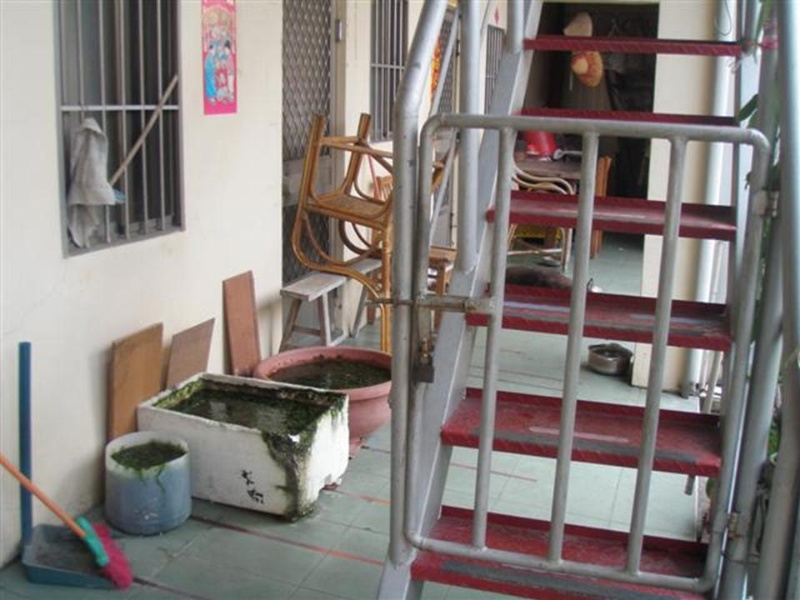bowl: (247, 342, 405, 441), (584, 342, 635, 375)
bucket: (101, 431, 195, 535)
styrofoam: (132, 367, 356, 519)
